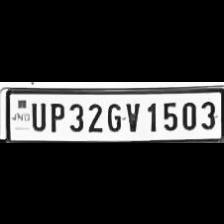0: (178, 97, 198, 129)
1: (142, 99, 158, 131)
2: (84, 100, 104, 132)
3: (66, 99, 84, 131), (198, 97, 216, 129)
5: (158, 97, 178, 130)
G: (104, 99, 122, 131)
P: (46, 98, 64, 132)
U: (28, 98, 46, 130)
V: (124, 98, 140, 132)
